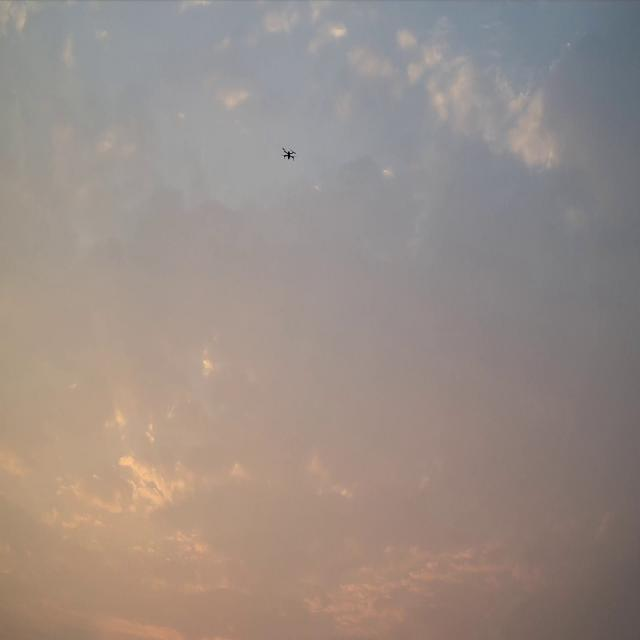UAV: (281, 146, 297, 161)
